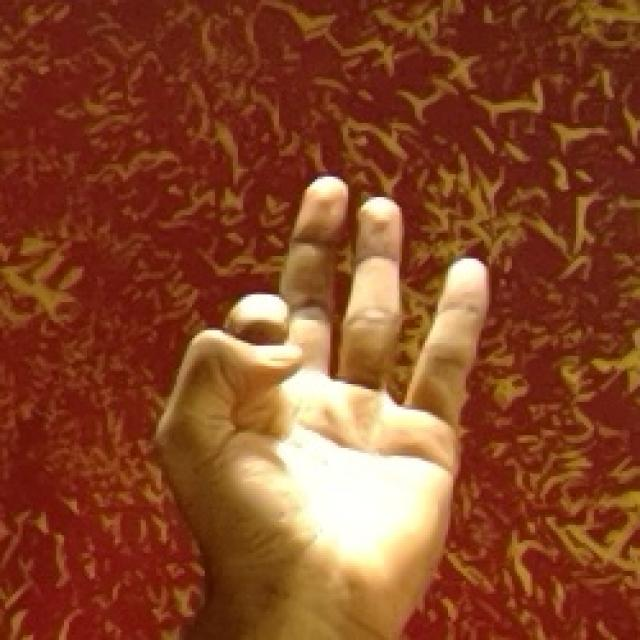Numeric-9: (146, 164, 494, 607)
